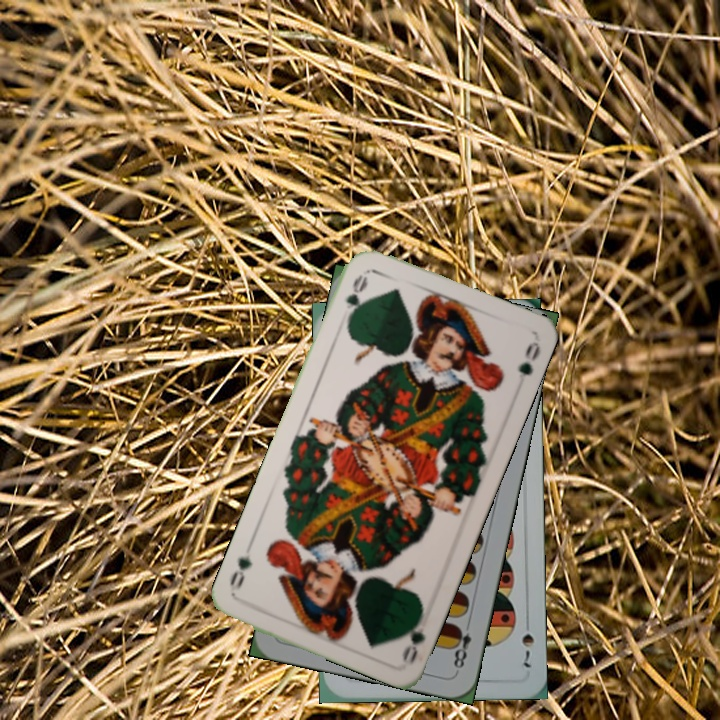E8: (448, 616, 474, 674)
GO: (398, 605, 428, 666), (342, 270, 371, 327)
S7: (518, 614, 536, 670)
